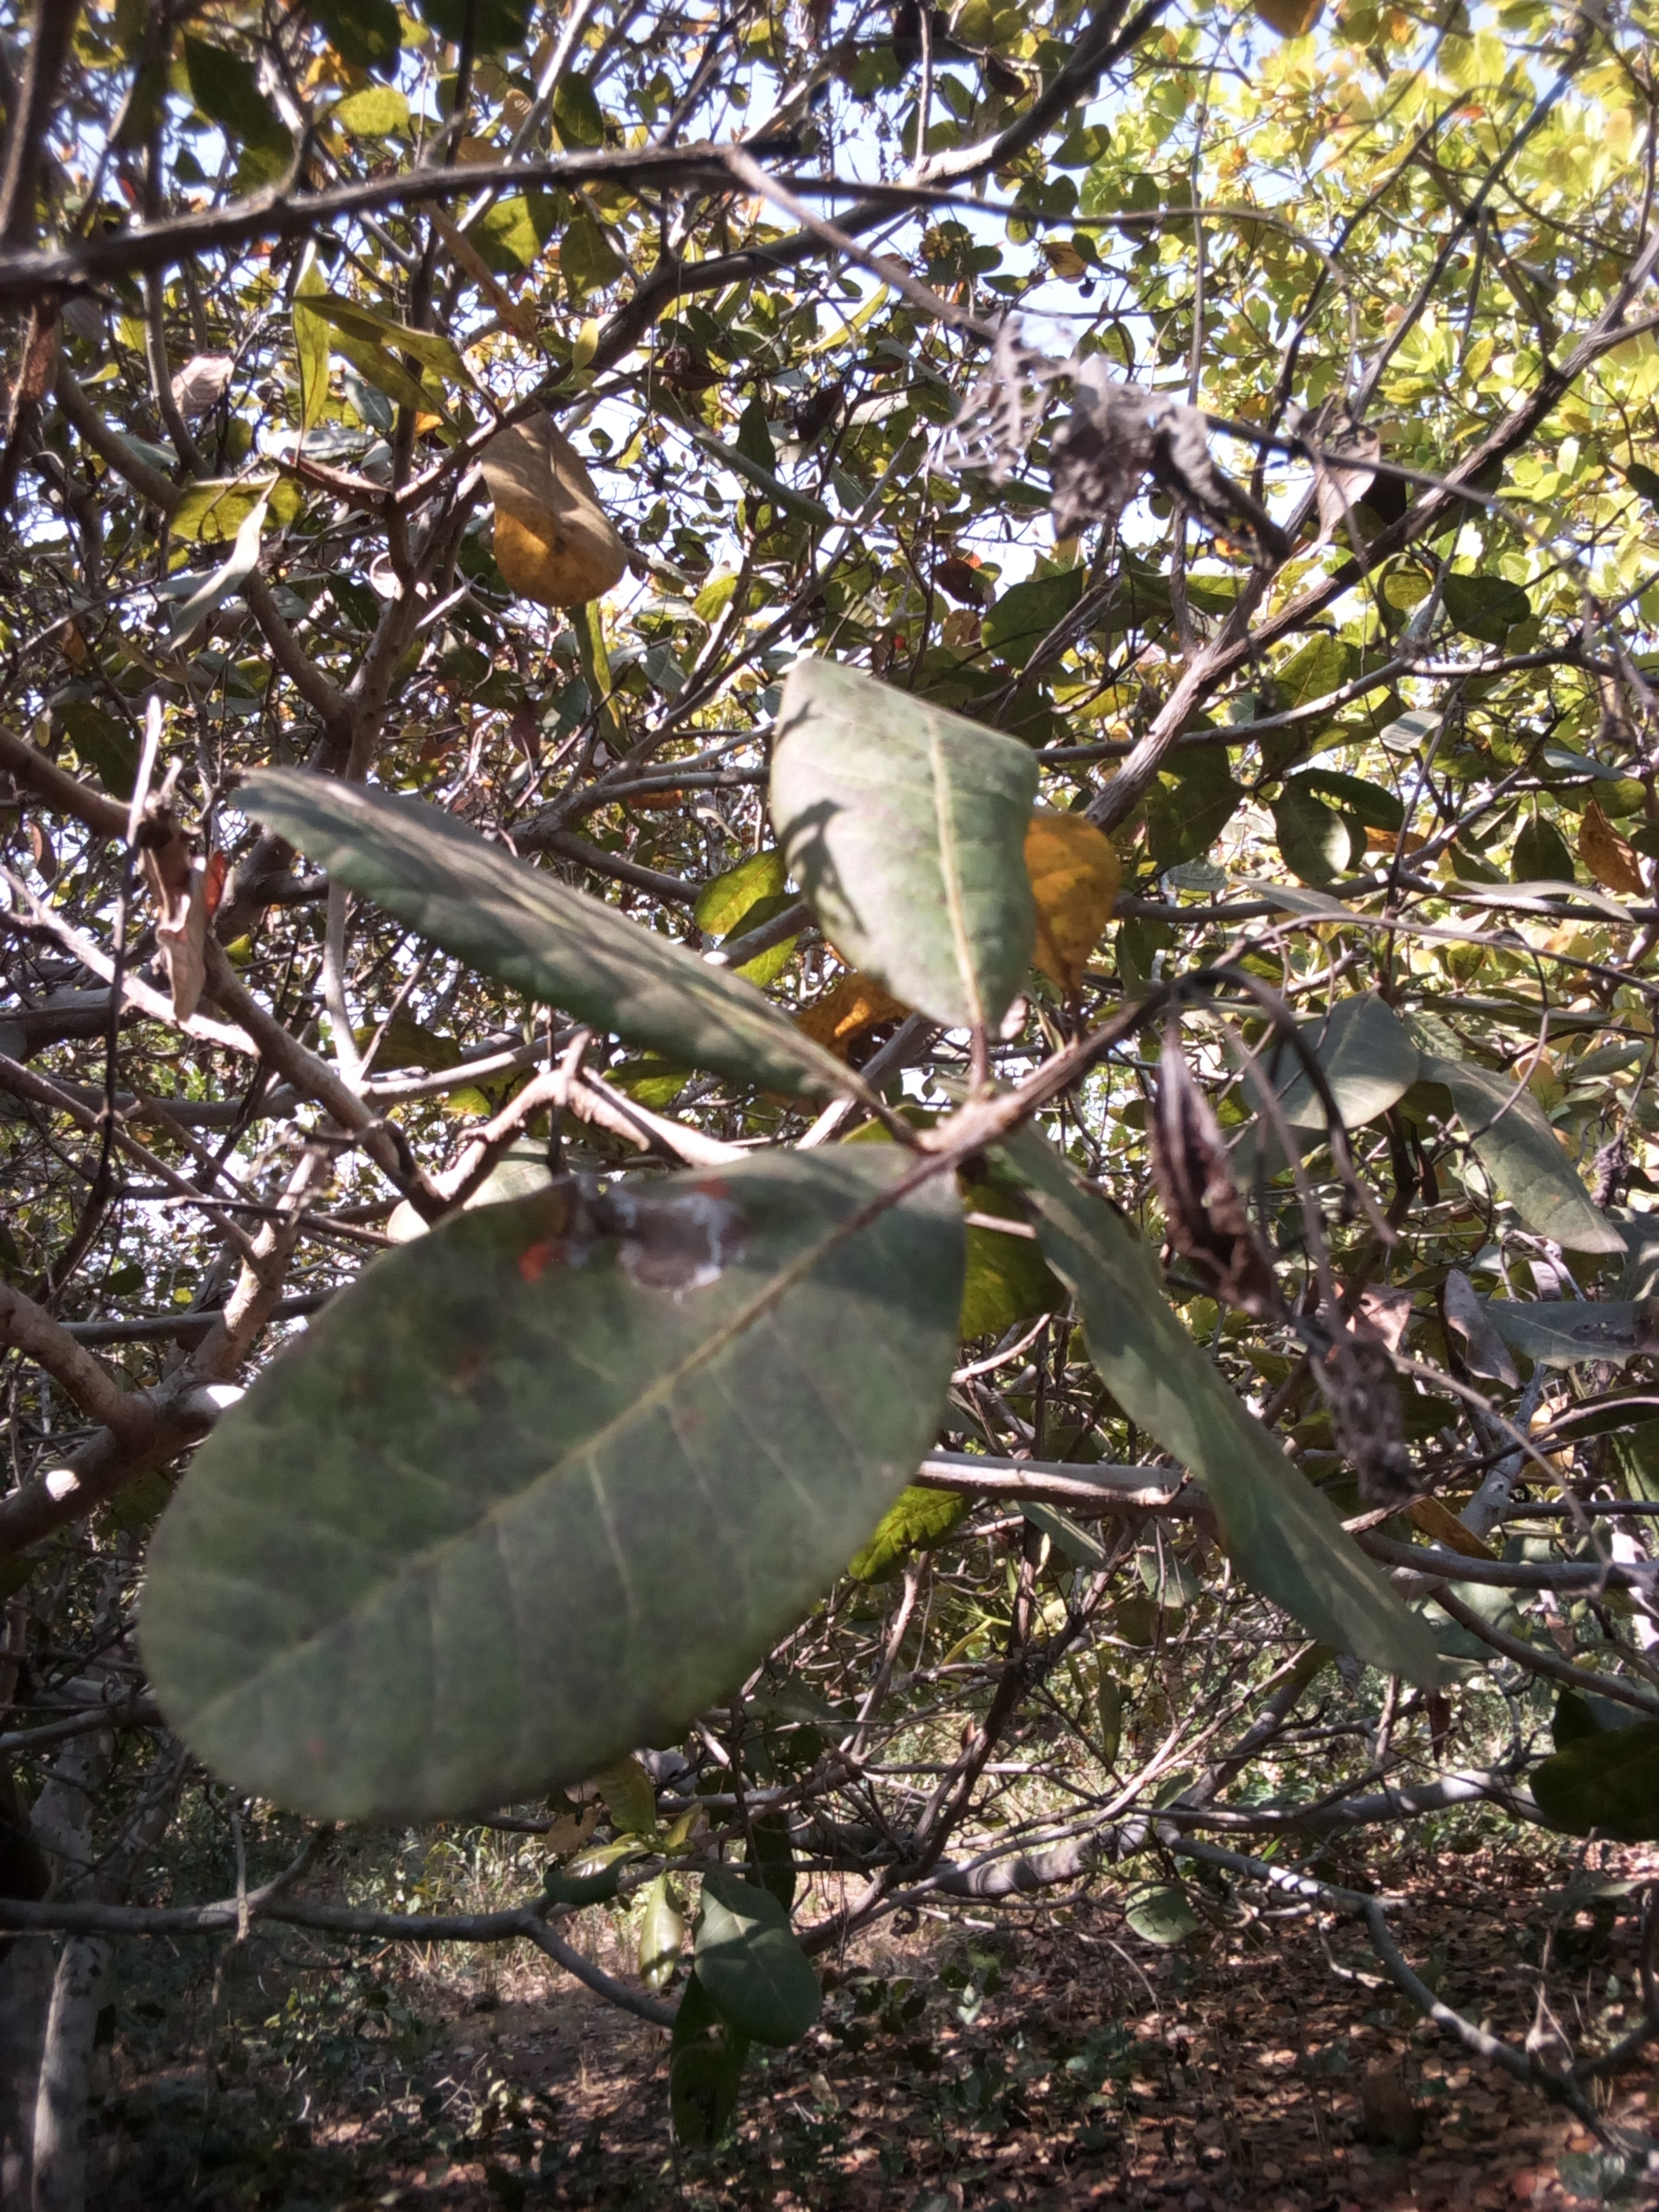Dessèchement des bourgeons: (1145, 991, 1471, 1475), (962, 310, 1239, 557)
